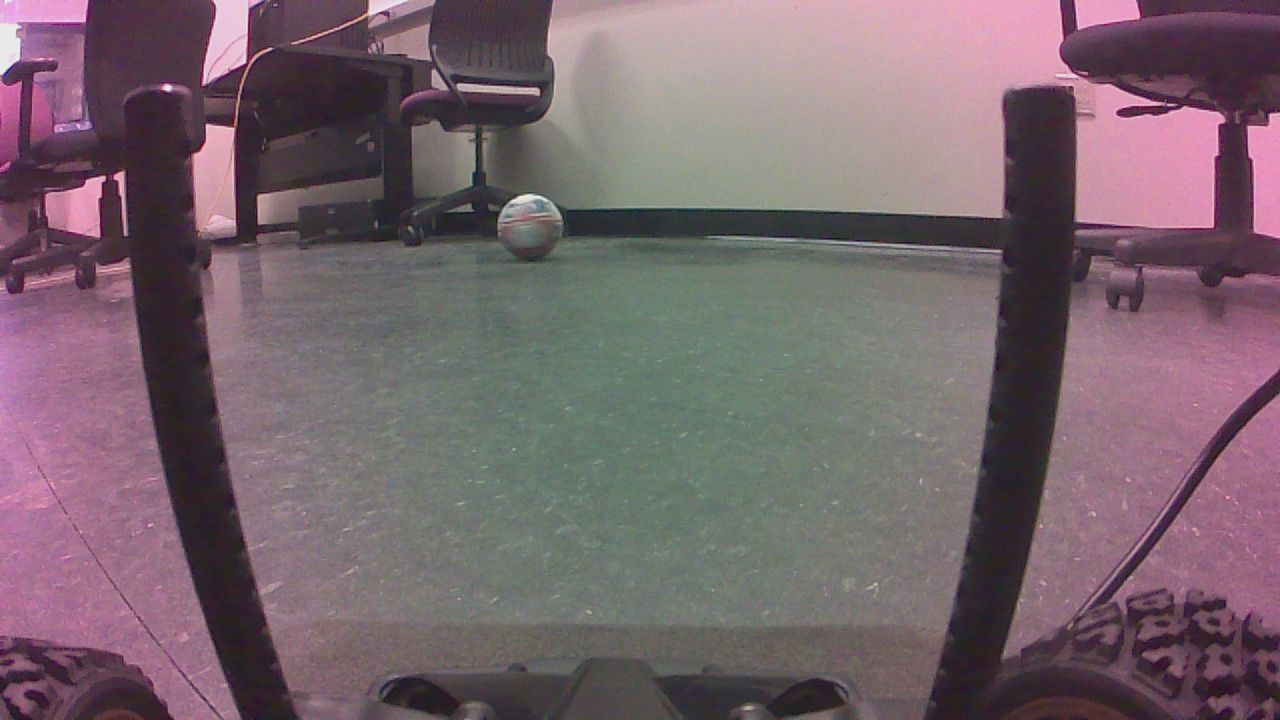ball: (501, 199, 570, 267)
